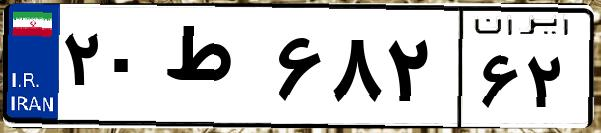0: (110, 28, 158, 98)
2: (385, 28, 445, 110), (57, 26, 110, 100), (525, 38, 570, 115)
6: (270, 28, 330, 110), (475, 38, 525, 113)
8: (330, 28, 385, 110)
ط: (158, 20, 270, 120)
